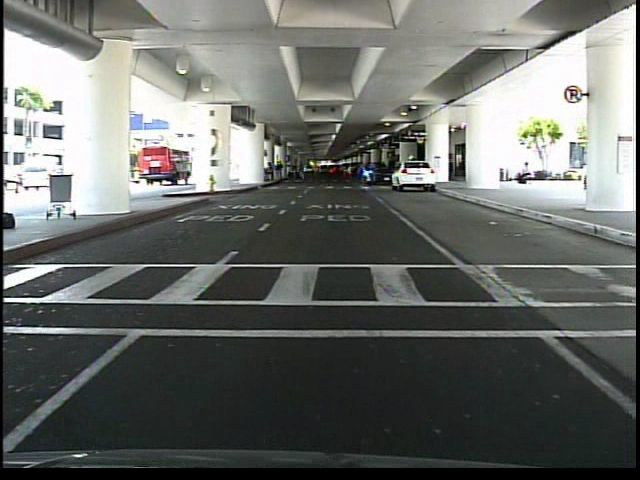person: (510, 158, 535, 190)
